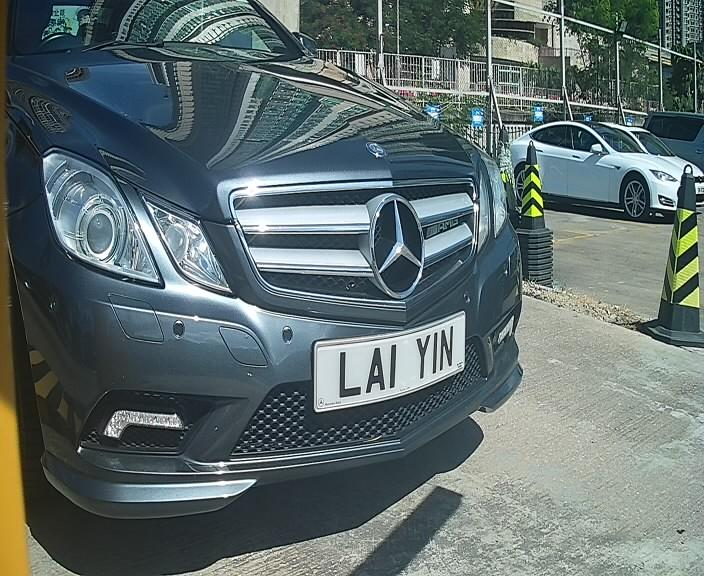License Plate: (305, 312, 466, 417)
